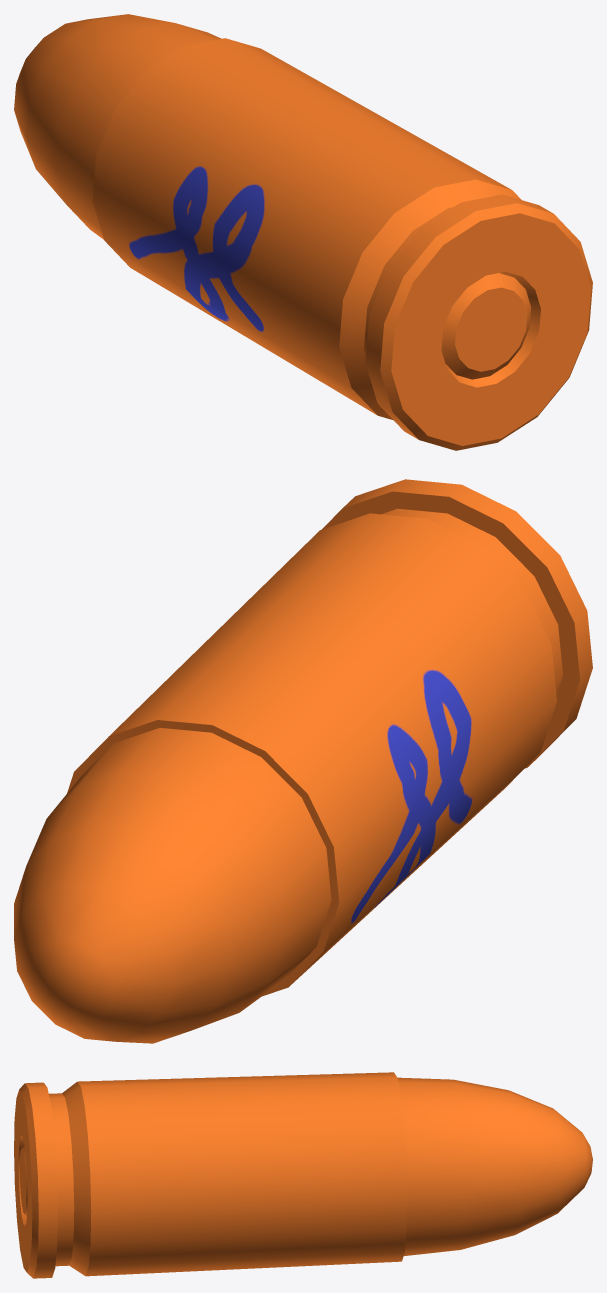
Rendered from mermi.glb.
The picture shows the model from 3 angles, top to bottom: view 1: azimuth 30°, elevation 25°; view 2: azimuth 150°, elevation 25°; view 3: azimuth 270°, elevation 25°; orthographic projection. The views are drawn at different scales.
Parts seen in each view (by area): view 1: node_id4; view 2: node_id4; view 3: node_id4.
Boxes of the visible parts, x1,y1,x2,y2 form: node_id4: (14, 14, 592, 450); node_id4: (14, 479, 592, 1043); node_id4: (14, 1072, 592, 1278).
Bounding box in the file's own units: 0.5954 × 0.5097 × 1.51.
Materials: 1 (1 with a texture image).
